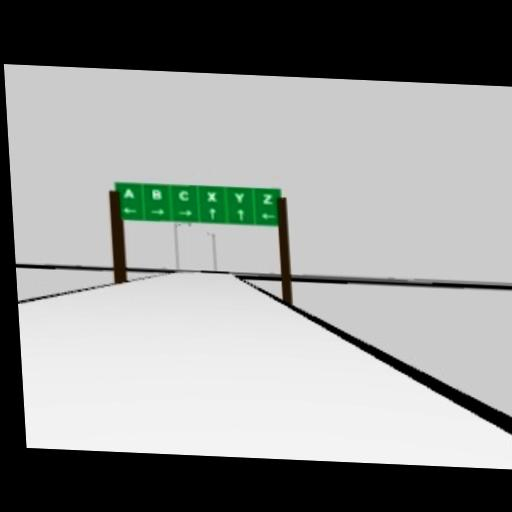A: (122, 187, 134, 199)
B: (150, 188, 160, 199)
C: (176, 188, 188, 199)
Left: (259, 211, 275, 220), (121, 206, 137, 214)
Right: (148, 206, 164, 215), (177, 207, 193, 216)
Straight: (235, 206, 243, 220), (207, 207, 215, 219)
X: (206, 191, 216, 201)
Y: (234, 190, 244, 202)
Z: (260, 192, 272, 203)
